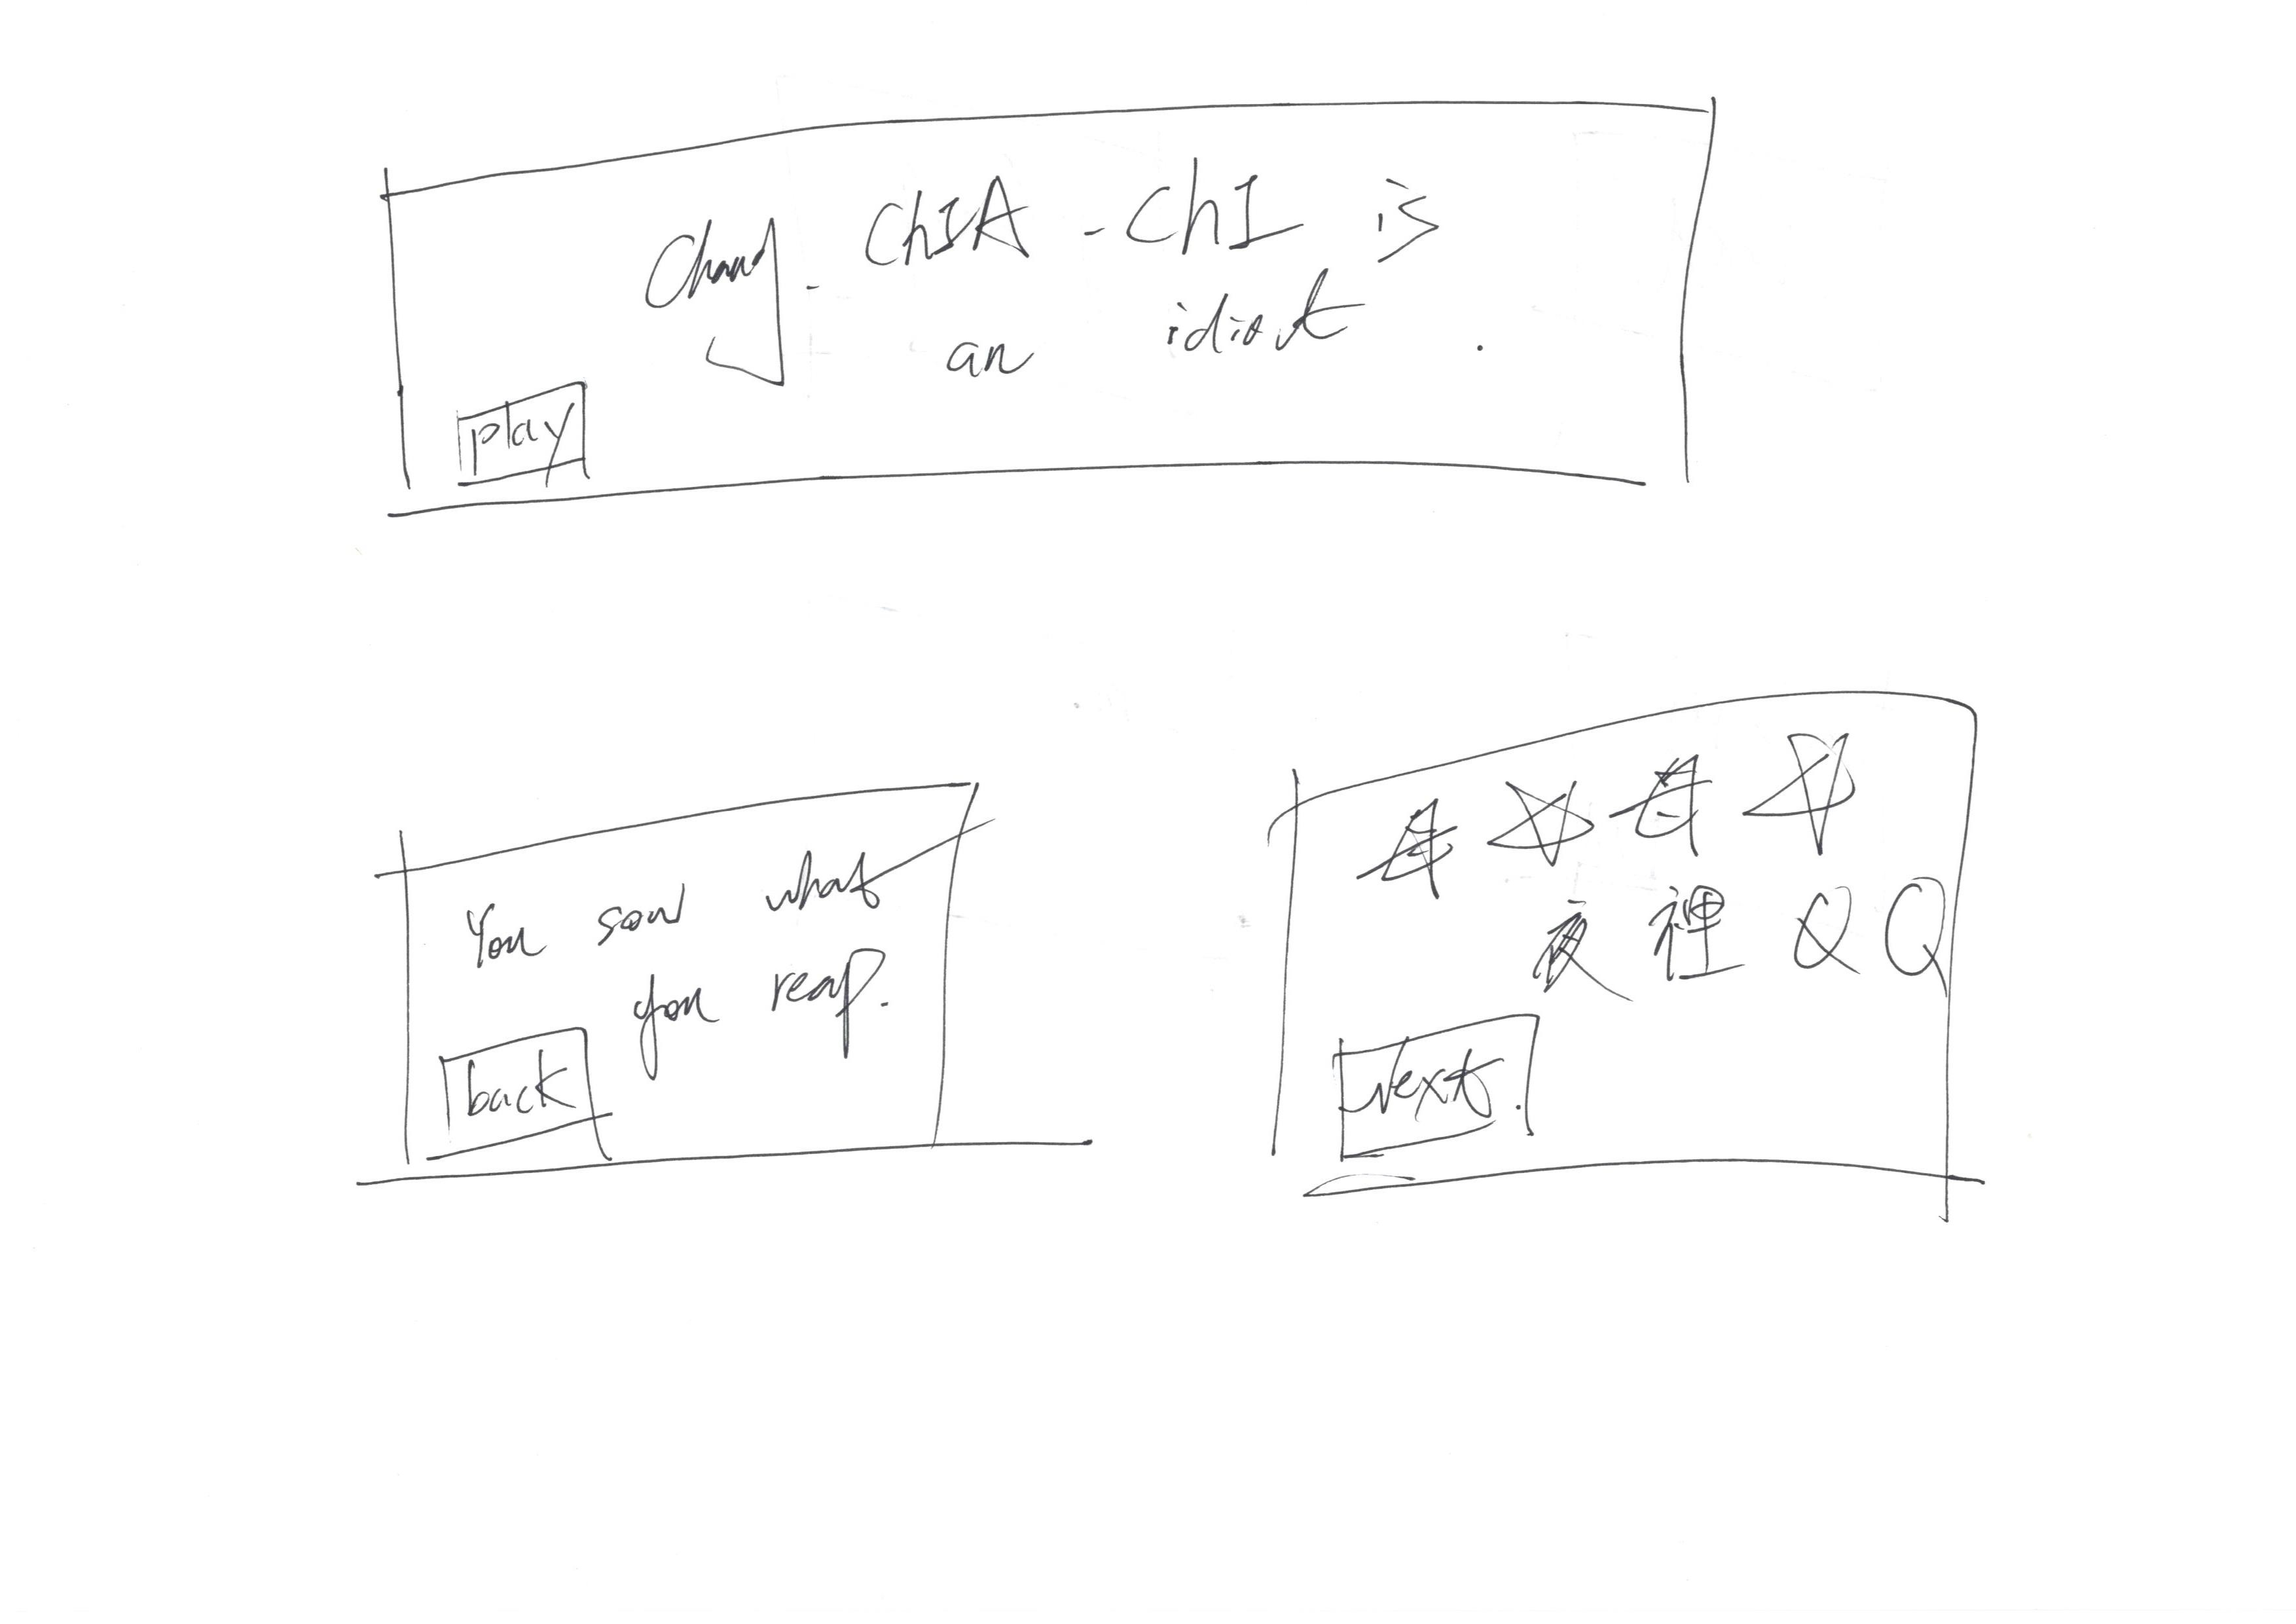back: (432, 1009, 615, 1151)
double: (1238, 684, 2071, 1244), (331, 743, 1090, 1218)
next: (1308, 1002, 1575, 1164)
play: (425, 387, 614, 480)
row: (251, 619, 2138, 1278), (257, 44, 2106, 584)
single: (325, 63, 1881, 550)
small-title: (635, 188, 1463, 281), (1364, 770, 1881, 845), (441, 866, 890, 933)
text: (1487, 870, 1929, 988), (925, 286, 1382, 366), (629, 954, 890, 1046)
